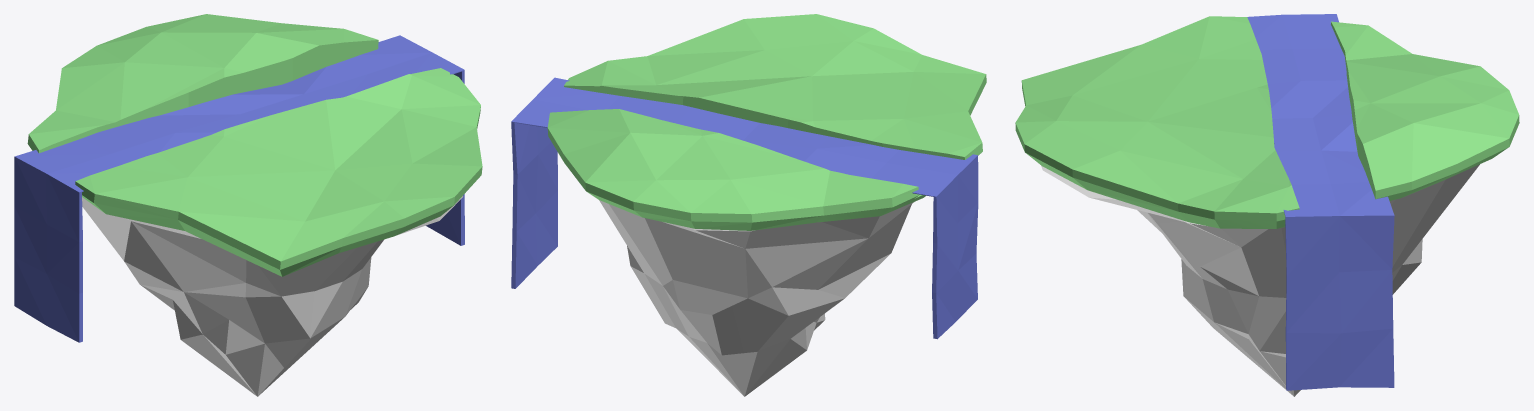
File: world-forest-organic.fbx
The picture shows the model from 3 angles, left to right: view 1: azimuth 30°, elevation 25°; view 2: azimuth 150°, elevation 25°; view 3: azimuth 270°, elevation 25°; orthographic projection. The views are drawn at different scales.
Parts seen in each view (by area): view 1: Island Grass.013, Island Grass.006; view 2: Island Grass.013, Island Grass.006; view 3: Island Grass.013, Island Grass.006.
Boxes of the visible parts, <box> form: Island Grass.013: <box>27,14,482,396</box>; Island Grass.006: <box>14,35,464,342</box>; Island Grass.013: <box>547,14,986,396</box>; Island Grass.006: <box>511,77,978,339</box>; Island Grass.013: <box>1015,16,1519,396</box>; Island Grass.006: <box>1247,14,1394,390</box>.
Size of the model in its own units: 2300 by 1577 by 2382.
